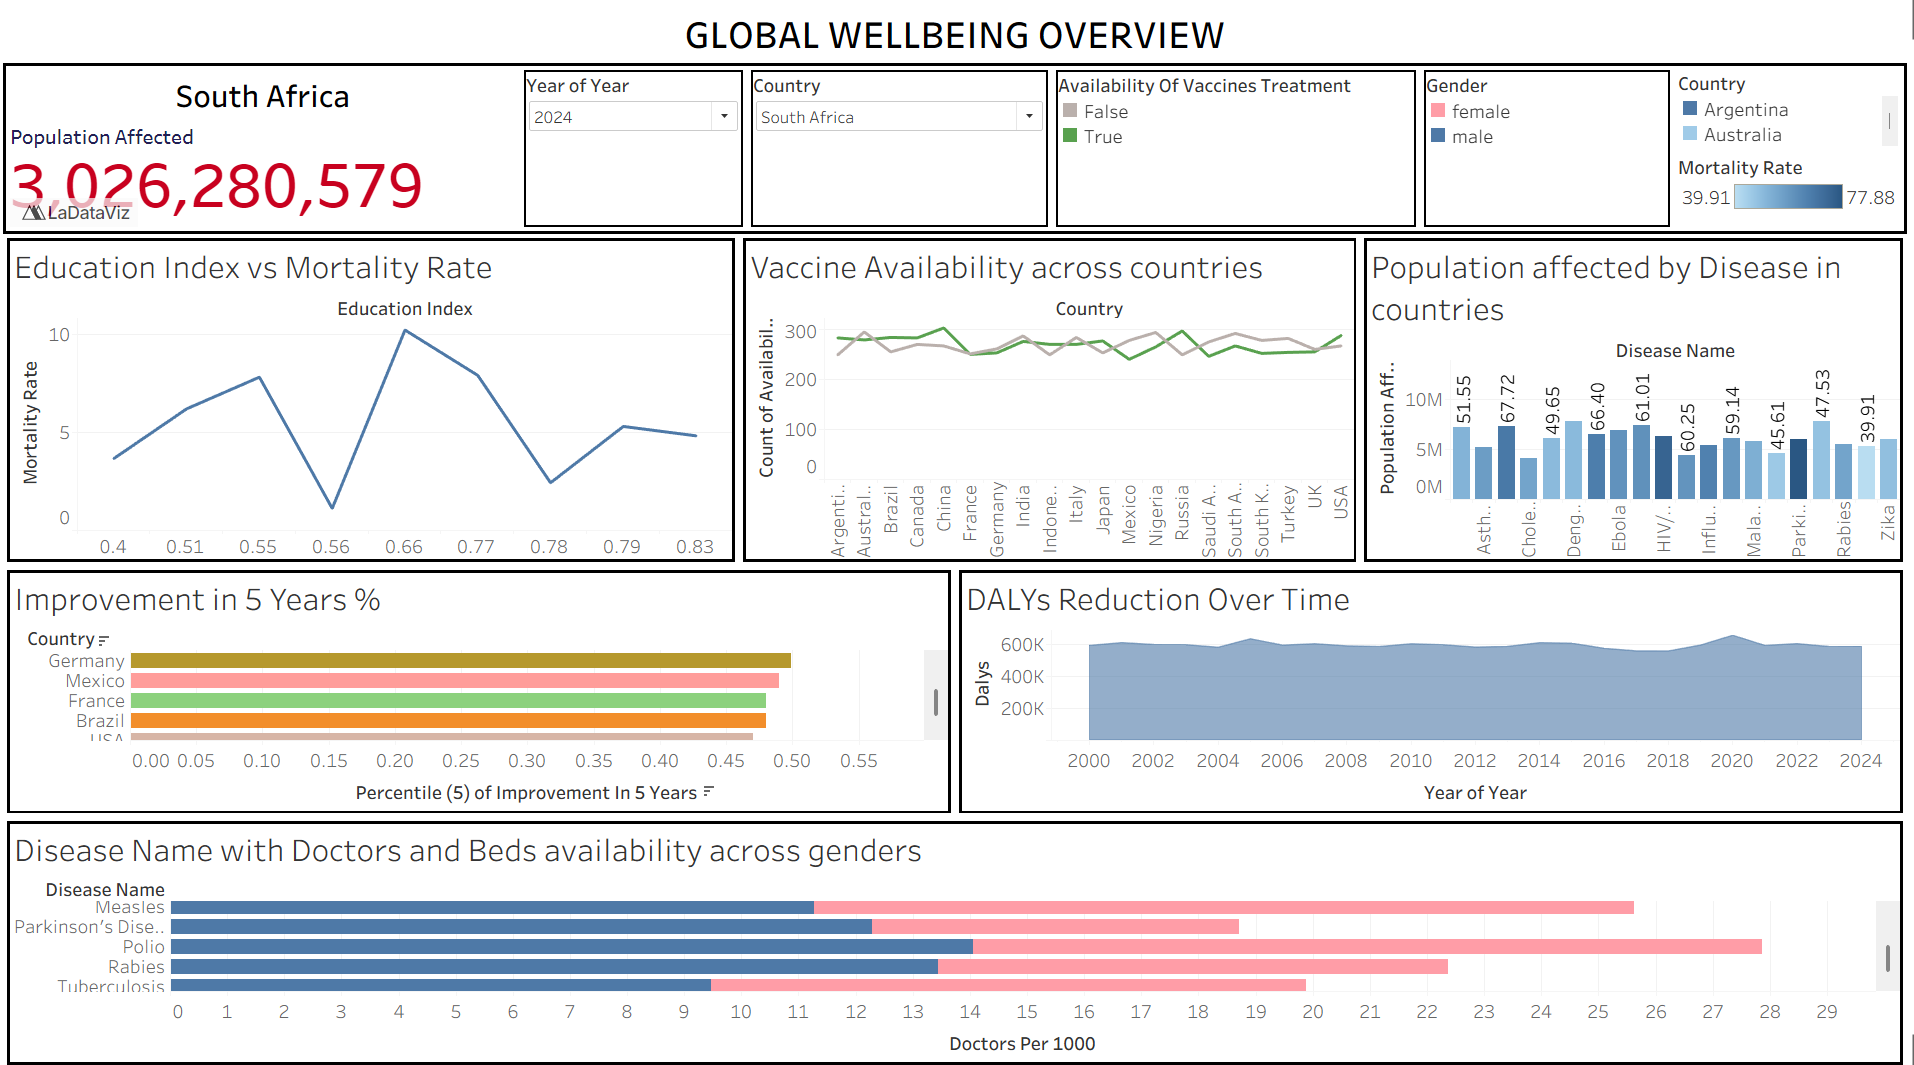

This screenshot's page, from the dashboard's own definition file:
{"tool":"tableau","page":{"name":"Global Wellbeing Overview","canvas":[650,860],"ordinal":2},"visuals":[{"type":"title","box":[8,8,634,58]},{"type":"worksheet","title":"Population affected KPI","box":[11,69,458,190.5]},{"type":"filter","title":"Education Index vs Mortality Rate","param":"[federated.0mcjdn40acfvmb1d8chxj1wd6kbu].[none:country:nk]","box":[469,69,160,31.7]},{"type":"filter","title":"Education Index vs Mortality Rate","param":"[federated.0mcjdn40acfvmb1d8chxj1wd6kbu].[yr:year:ok]","box":[469,100.7,160,31.7]},{"type":"legend","title":"Vaccine Availability across countries","param":"[federated.0mcjdn40acfvmb1d8chxj1wd6kbu].[none:availability_of_vaccines_treatmen","box":[469,132.5,160,31.7]},{"type":"legend","title":"Improvement in 5 Years %","param":"[federated.0mcjdn40acfvmb1d8chxj1wd6kbu].[none:country:nk]","box":[469,164.2,160,31.7]},{"type":"legend","title":"Population affected by Disease in countries","param":"[federated.0mcjdn40acfvmb1d8chxj1wd6kbu].[sum:mortality_rate:qk]","box":[469,196,160,31.7]},{"type":"legend","title":"Disease Name with Doctors and Beds availability across genders","param":"[federated.0mcjdn40acfvmb1d8chxj1wd6kbu].[none:gender:nk]","box":[469,227.7,160,31.8]},{"type":"worksheet","title":"Education Index vs Mortality Rate","mark":"Line","rows":["mortality_rate"],"cols":["education_index"],"box":[8,262.5,245,196.5]},{"type":"worksheet","title":"Vaccine Availability across countries","mark":"Line","rows":["availability_of_vaccines_treatment"],"cols":["country"],"box":[253,262.5,207,196.5]},{"type":"worksheet","title":"Population affected by Disease in countries","mark":"Bar","rows":["population_affected"],"cols":["disease_name"],"box":[460,262.5,182,196.5]},{"type":"worksheet","title":"Improvement in 5 Years %","mark":"Automatic","rows":["country"],"cols":["improvement_in_5_years"],"box":[8,459,317,196.5]},{"type":"worksheet","title":"DALYs Reduction Over Time","mark":"Area","rows":["dalys"],"cols":["year"],"box":[325,459,317,196.5]},{"type":"worksheet","title":"Disease Name with Doctors and Beds availability across genders","mark":"Automatic","rows":["disease_name"],"cols":["doctors_per_1000"],"box":[8,655.5,634,196.5]}]}

Visuals, with their boxes on the page's 650x860 design canvas (x1, y1, x2, y2). These are canvas units, not pixel positions in the 1914x1065 screenshot, which may show the page scaled, cropped or inside an application window:
title: pyautogui.locateOnScreen(8, 8, 642, 66)
"Population affected KPI" worksheet: pyautogui.locateOnScreen(11, 69, 469, 260)
"Education Index vs Mortality Rate" filter: pyautogui.locateOnScreen(469, 69, 629, 101)
"Education Index vs Mortality Rate" filter: pyautogui.locateOnScreen(469, 101, 629, 132)
"Vaccine Availability across countries" legend: pyautogui.locateOnScreen(469, 132, 629, 164)
"Improvement in 5 Years %" legend: pyautogui.locateOnScreen(469, 164, 629, 196)
"Population affected by Disease in countries" legend: pyautogui.locateOnScreen(469, 196, 629, 228)
"Disease Name with Doctors and Beds availability across genders" legend: pyautogui.locateOnScreen(469, 228, 629, 260)
"Education Index vs Mortality Rate" worksheet (Line marks): pyautogui.locateOnScreen(8, 262, 253, 459)
"Vaccine Availability across countries" worksheet (Line marks): pyautogui.locateOnScreen(253, 262, 460, 459)
"Population affected by Disease in countries" worksheet (Bar marks): pyautogui.locateOnScreen(460, 262, 642, 459)
"Improvement in 5 Years %" worksheet: pyautogui.locateOnScreen(8, 459, 325, 656)
"DALYs Reduction Over Time" worksheet (Area marks): pyautogui.locateOnScreen(325, 459, 642, 656)
"Disease Name with Doctors and Beds availability across genders" worksheet: pyautogui.locateOnScreen(8, 656, 642, 852)
